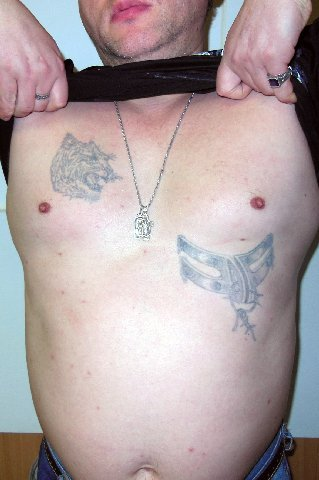tatu5_tigr: (51, 129, 123, 201)
